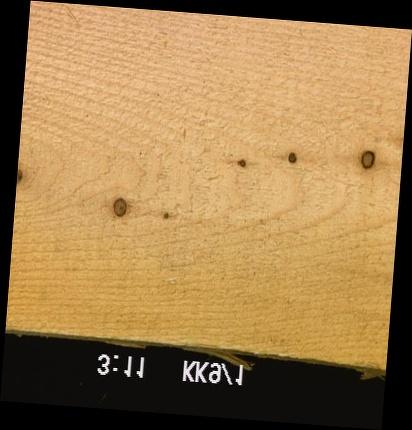dry_knot: (111, 197, 127, 218), (360, 149, 375, 170)
small_knot: (286, 151, 297, 165), (237, 158, 246, 169), (161, 212, 169, 221)
sound_knot: (16, 167, 22, 185)
